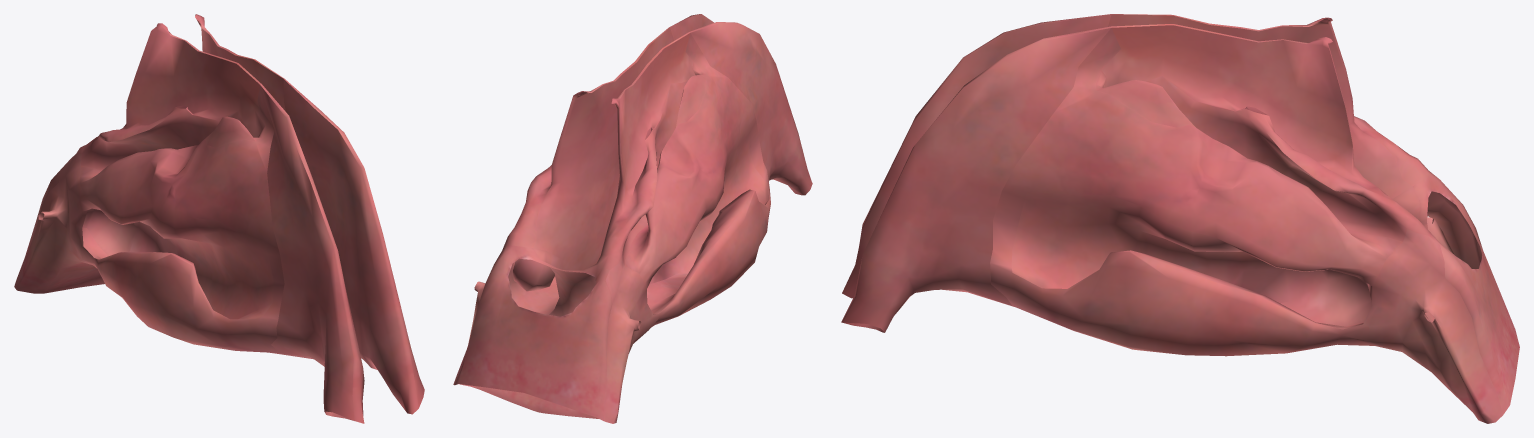
File: 2.1 Nasal Cavity.glb
3 renders of one model, left to right at view 1: azimuth 30°, elevation 25°; view 2: azimuth 150°, elevation 25°; view 3: azimuth 270°, elevation 25°, orthographic. The views are drawn at different scales.
Visible parts, largest first — view 1: Nasopharynx; view 2: Nasopharynx; view 3: Nasopharynx.
Boxes of the visible parts, x1,y1,x2,y2 form: Nasopharynx: (14,14,424,423); Nasopharynx: (453,14,812,423); Nasopharynx: (841,14,1519,423).
Bounding box in the file's own units: 0.0367 × 0.055 × 0.0921.
Materials: 1 (1 with a texture image).
